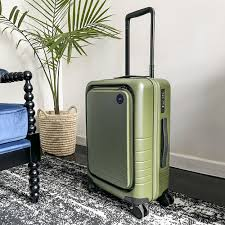suitcase: (83, 5, 173, 219)
